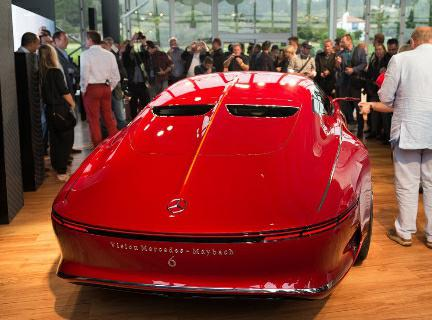奔驰-VisionMercedes-Maybach6: (45, 71, 378, 302)
